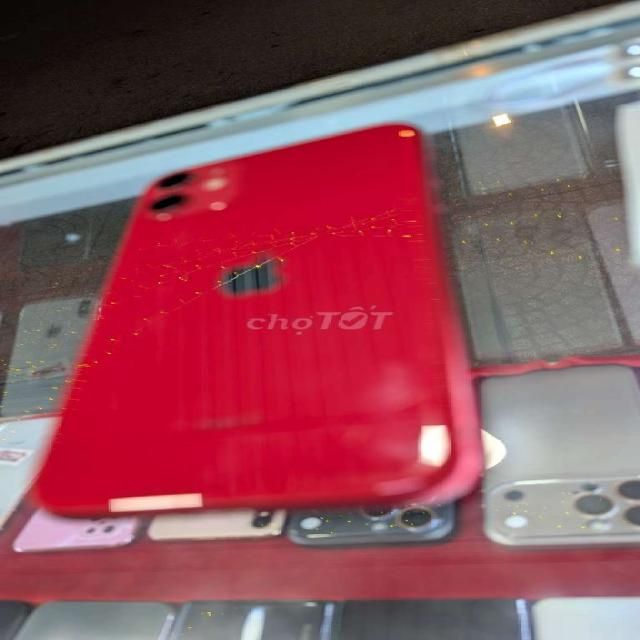gen_11: (33, 116, 479, 519)
